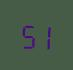five: (19, 19, 35, 49)
one: (36, 20, 52, 50)
